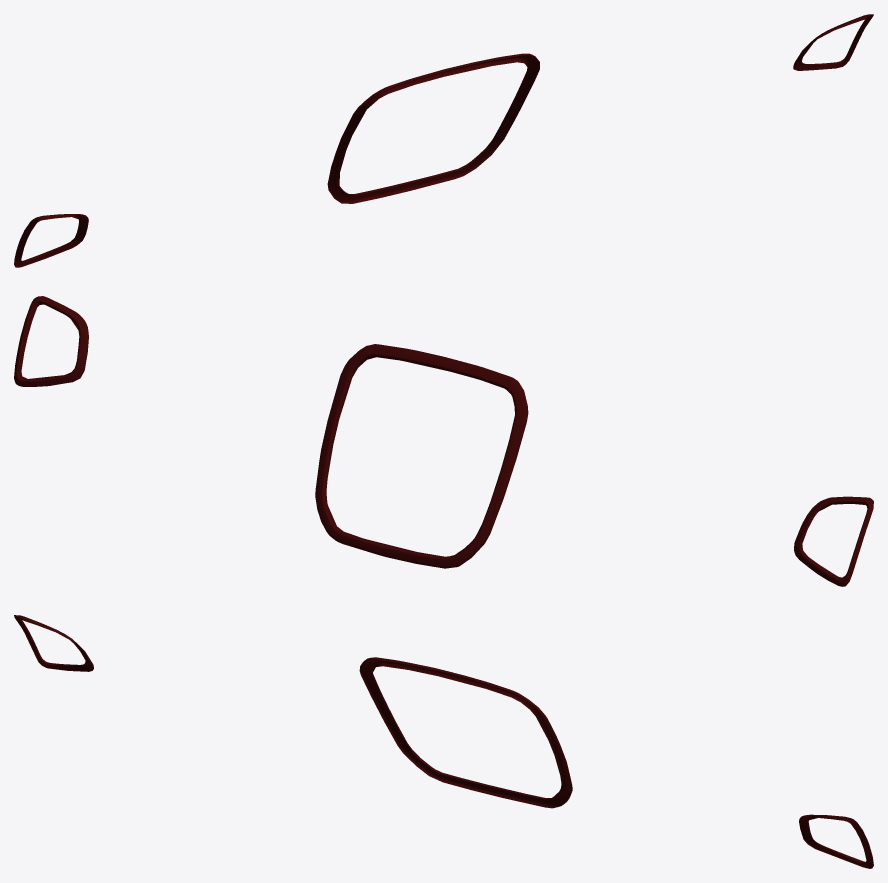
Rendered from TOYOTA_URBAN_CRUISER_MID_IN_DASHBOARD_CENTRE_GARNISH_MESH.glb.
3 views of the same model, one above another, from view 1: azimuth 30°, elevation 25°; view 2: azimuth 150°, elevation 25°; view 3: azimuth 330°, elevation 25° (orthographic).
Parts seen in each view (by area): view 1: TOYOTA_URBAN_CRUISER_MID_IN_DASHBOARD_CENTRE_GARNISH_MESH; view 2: TOYOTA_URBAN_CRUISER_MID_IN_DASHBOARD_CENTRE_GARNISH_MESH; view 3: TOYOTA_URBAN_CRUISER_MID_IN_DASHBOARD_CENTRE_GARNISH_MESH.
Part boxes in pixels (x1,y1,x2,y2): TOYOTA_URBAN_CRUISER_MID_IN_DASHBOARD_CENTRE_GARNISH_MESH: (14,14,873,267); TOYOTA_URBAN_CRUISER_MID_IN_DASHBOARD_CENTRE_GARNISH_MESH: (14,296,873,586); TOYOTA_URBAN_CRUISER_MID_IN_DASHBOARD_CENTRE_GARNISH_MESH: (14,615,873,868).
Bounding box in the file's own units: 1.31 × 0.2439 × 0.1608.
